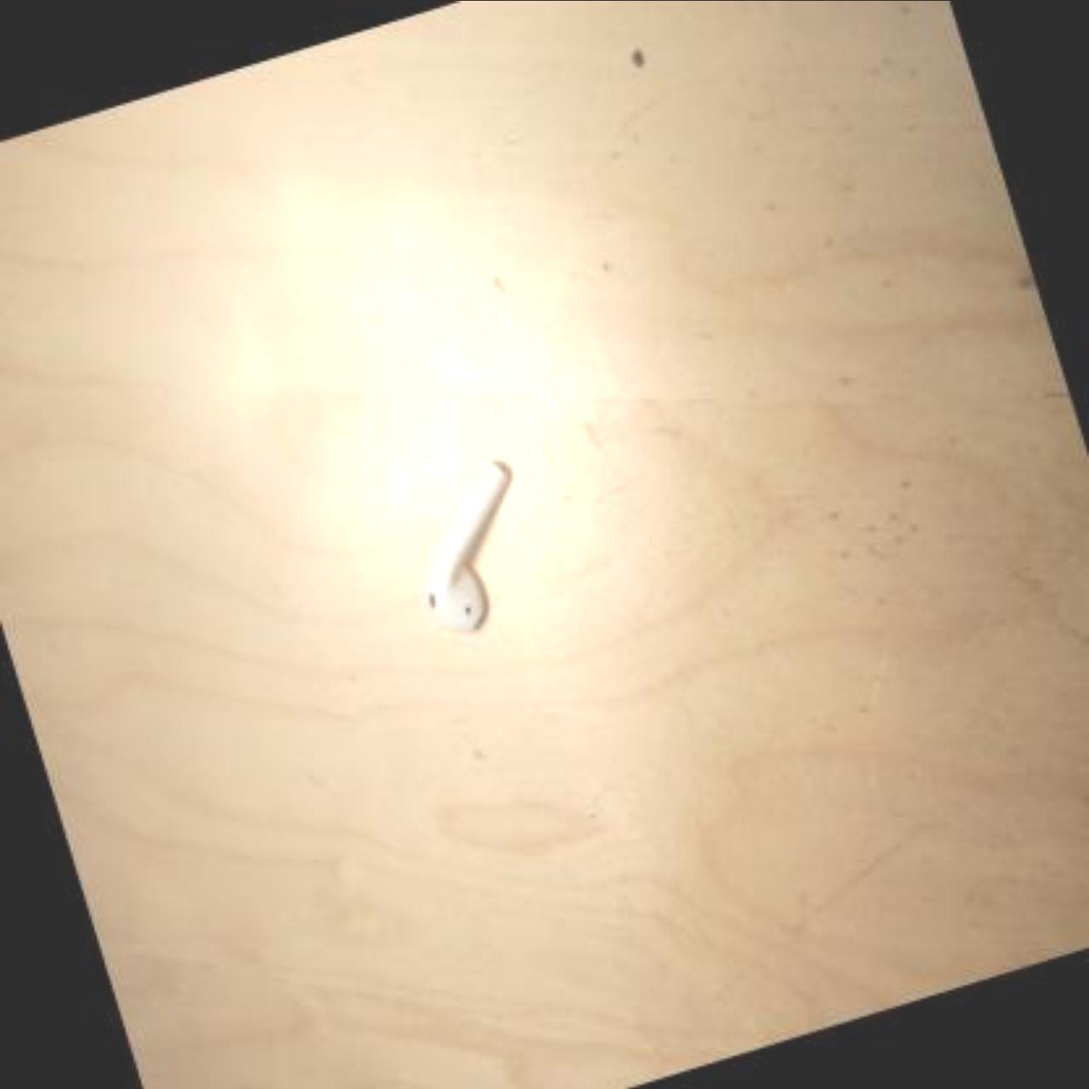Airpods_Units: (394, 457, 553, 650)
